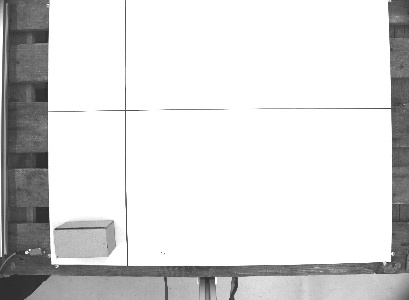b2: (52, 218, 117, 261)
